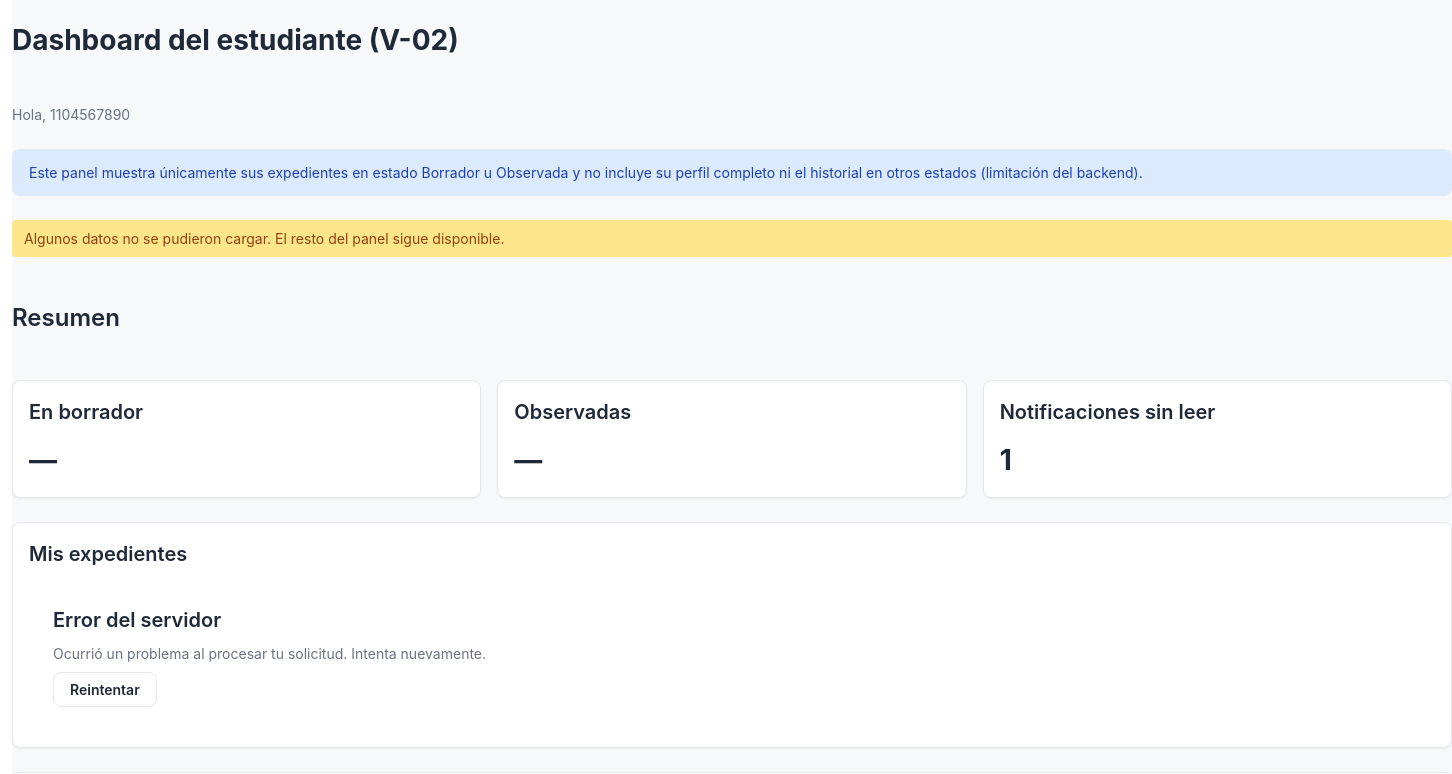
Scenario: StudentDashboardPage (V-02) › CA-V02-04: un error 500 en la bandeja muestra un estado de error con reintento real
Check: the message that starts with "Error del servidor" shows "problema al procesar", box [53,645,486,662]
Click the button "Reintentar" at {"x": 105, "y": 690}, box [53,672,157,707]
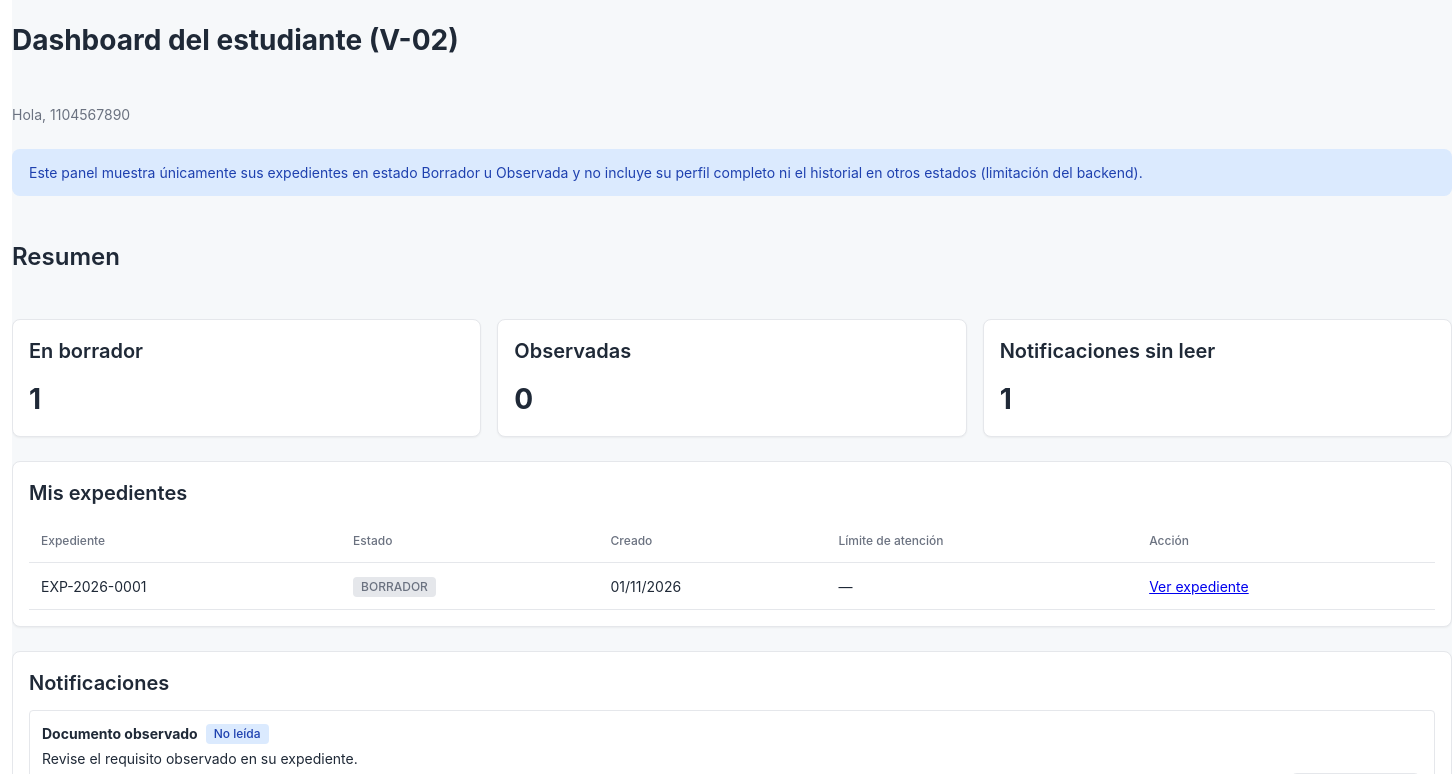
Check: the text "EXP-2026-0001" is shown, box [29,563,341,610]
